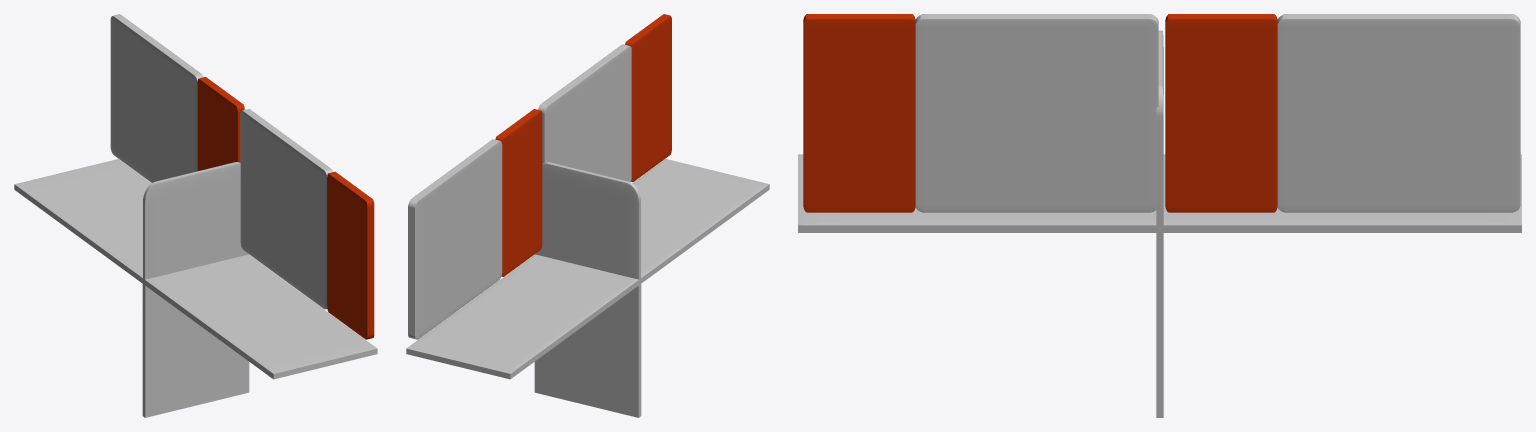
The model's file is WALLL.obj.
3 views of the same model, side by side, from view 1: azimuth 30°, elevation 25°; view 2: azimuth 150°, elevation 25°; view 3: azimuth 270°, elevation 25° (orthographic). The views are drawn at different scales.
Parts seen in each view (by area): view 1: Cube.195_Cube.220; view 2: Cube.195_Cube.220; view 3: Cube.195_Cube.220.
Boxes of the visible parts, <box> form: Cube.195_Cube.220: <box>14,14,377,417</box>; Cube.195_Cube.220: <box>406,14,769,417</box>; Cube.195_Cube.220: <box>798,14,1521,417</box>.
Bounding box in the file's own units: 0.6793 × 1.78 × 2.93.
